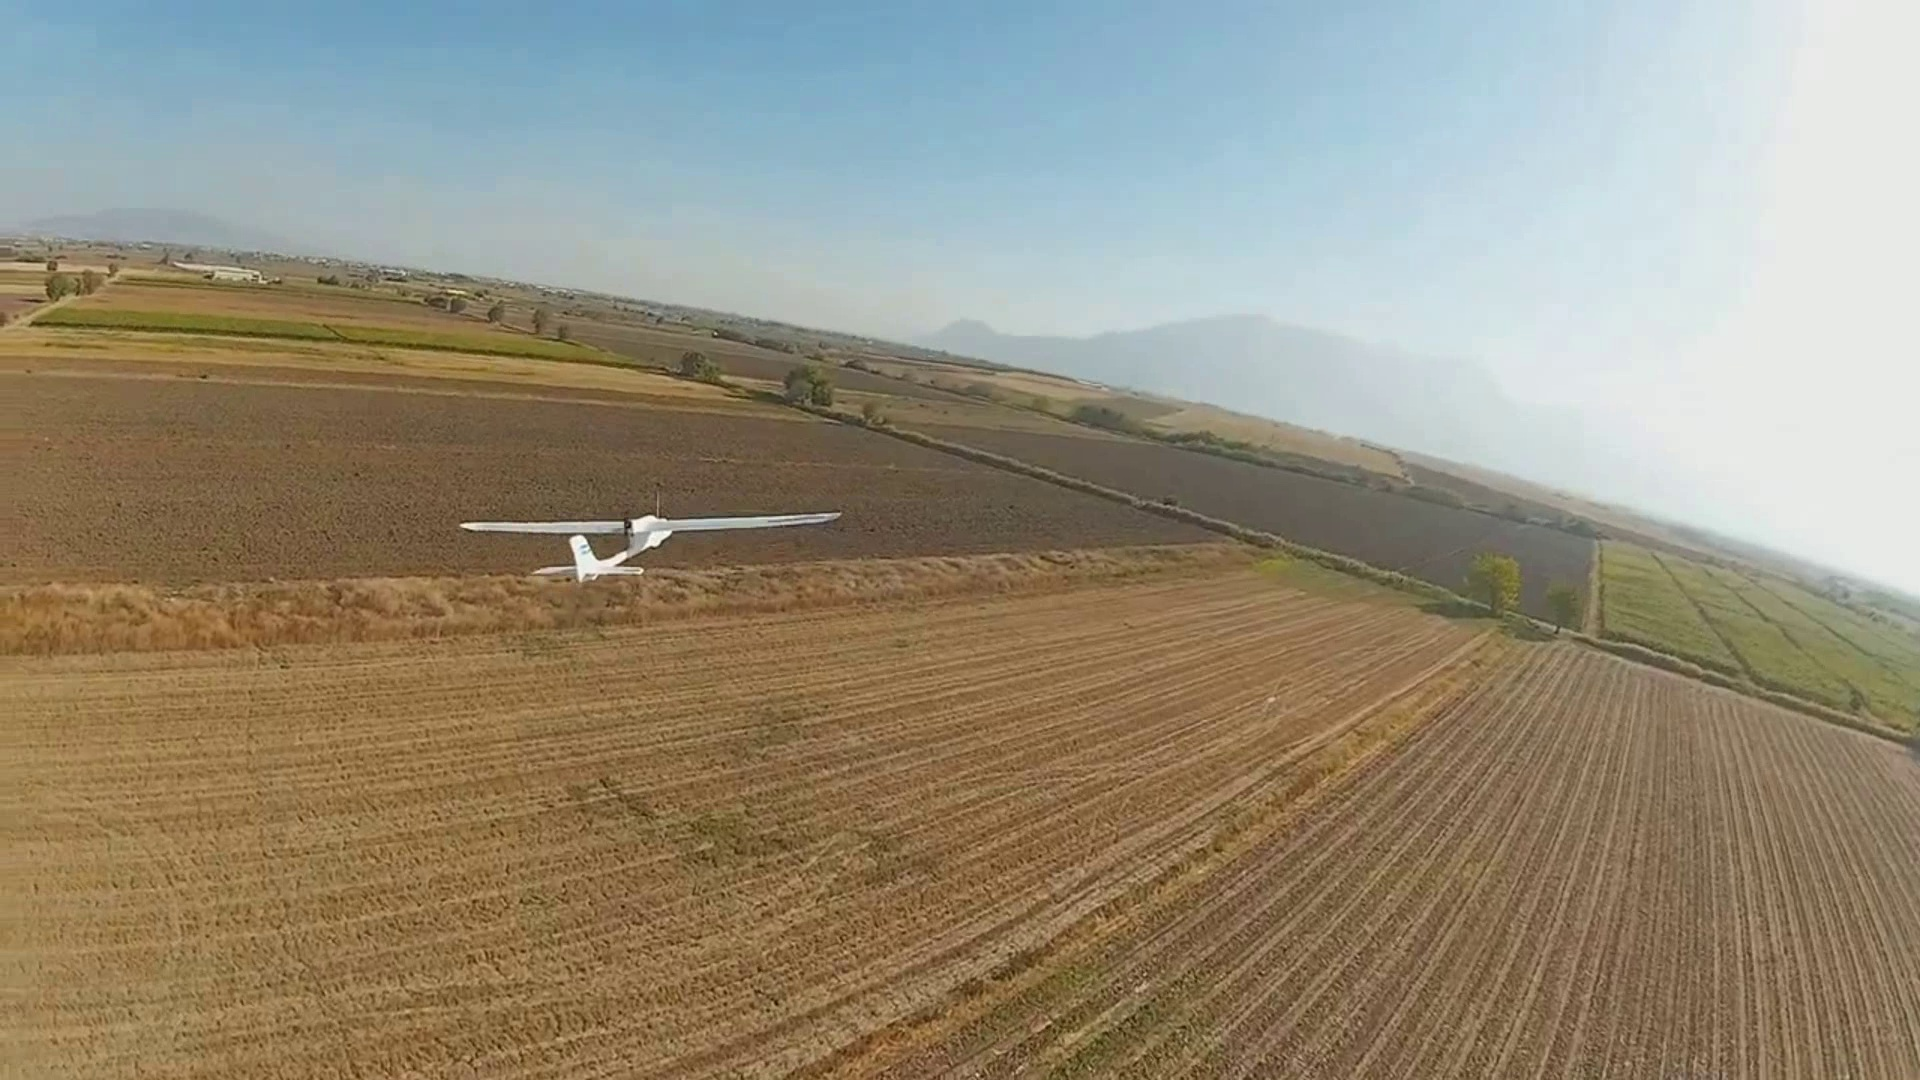airplane: (458, 504, 847, 584)
